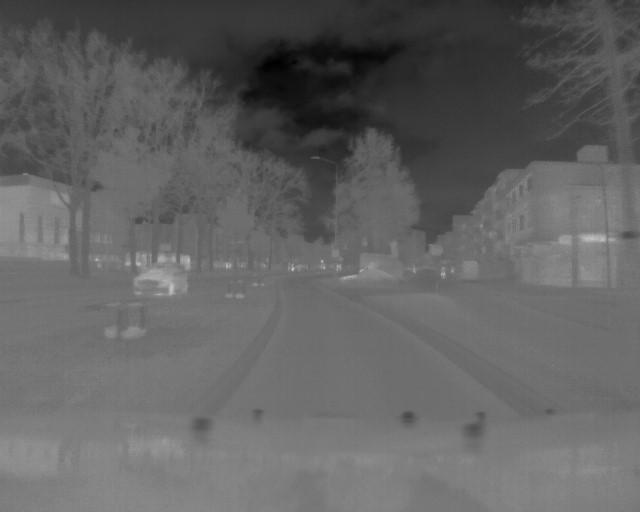car: (130, 261, 193, 300)
